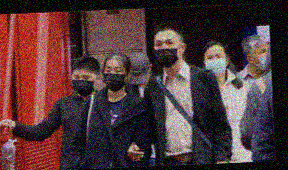with_mask: (154, 36, 181, 68), (102, 64, 126, 92), (71, 71, 96, 96), (203, 52, 226, 77), (255, 45, 270, 70)
